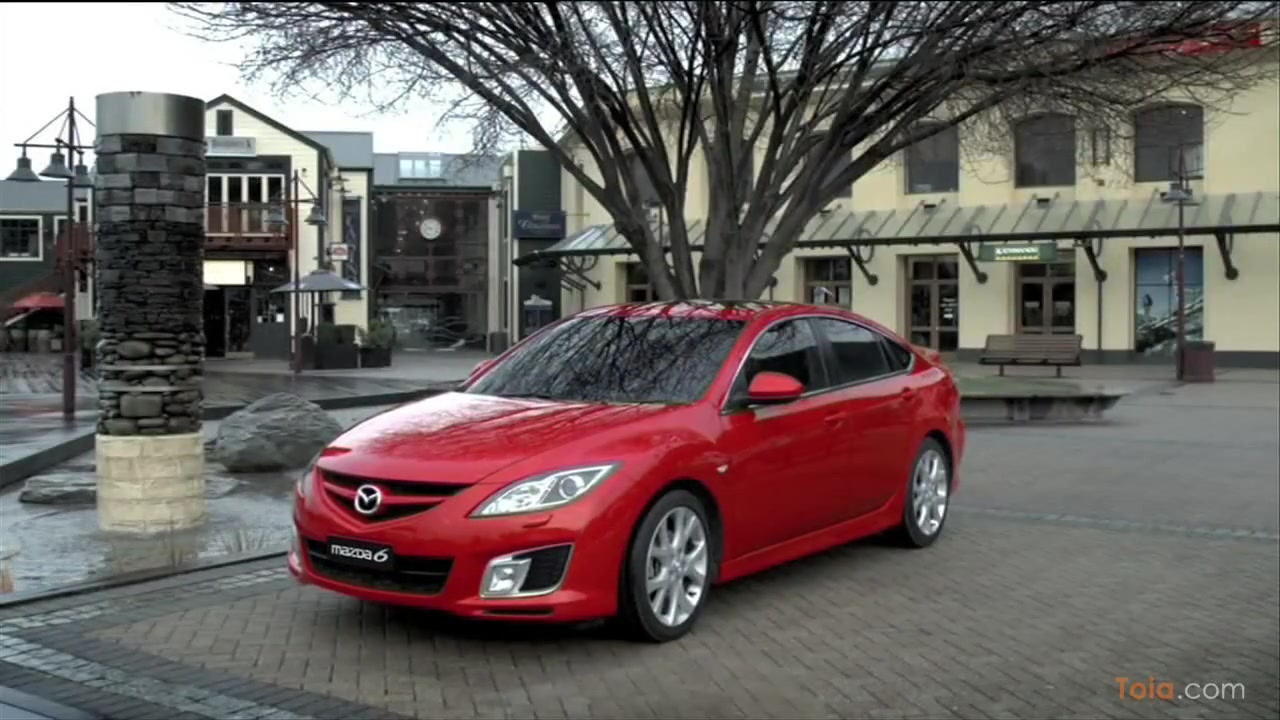car: (283, 298, 971, 647)
